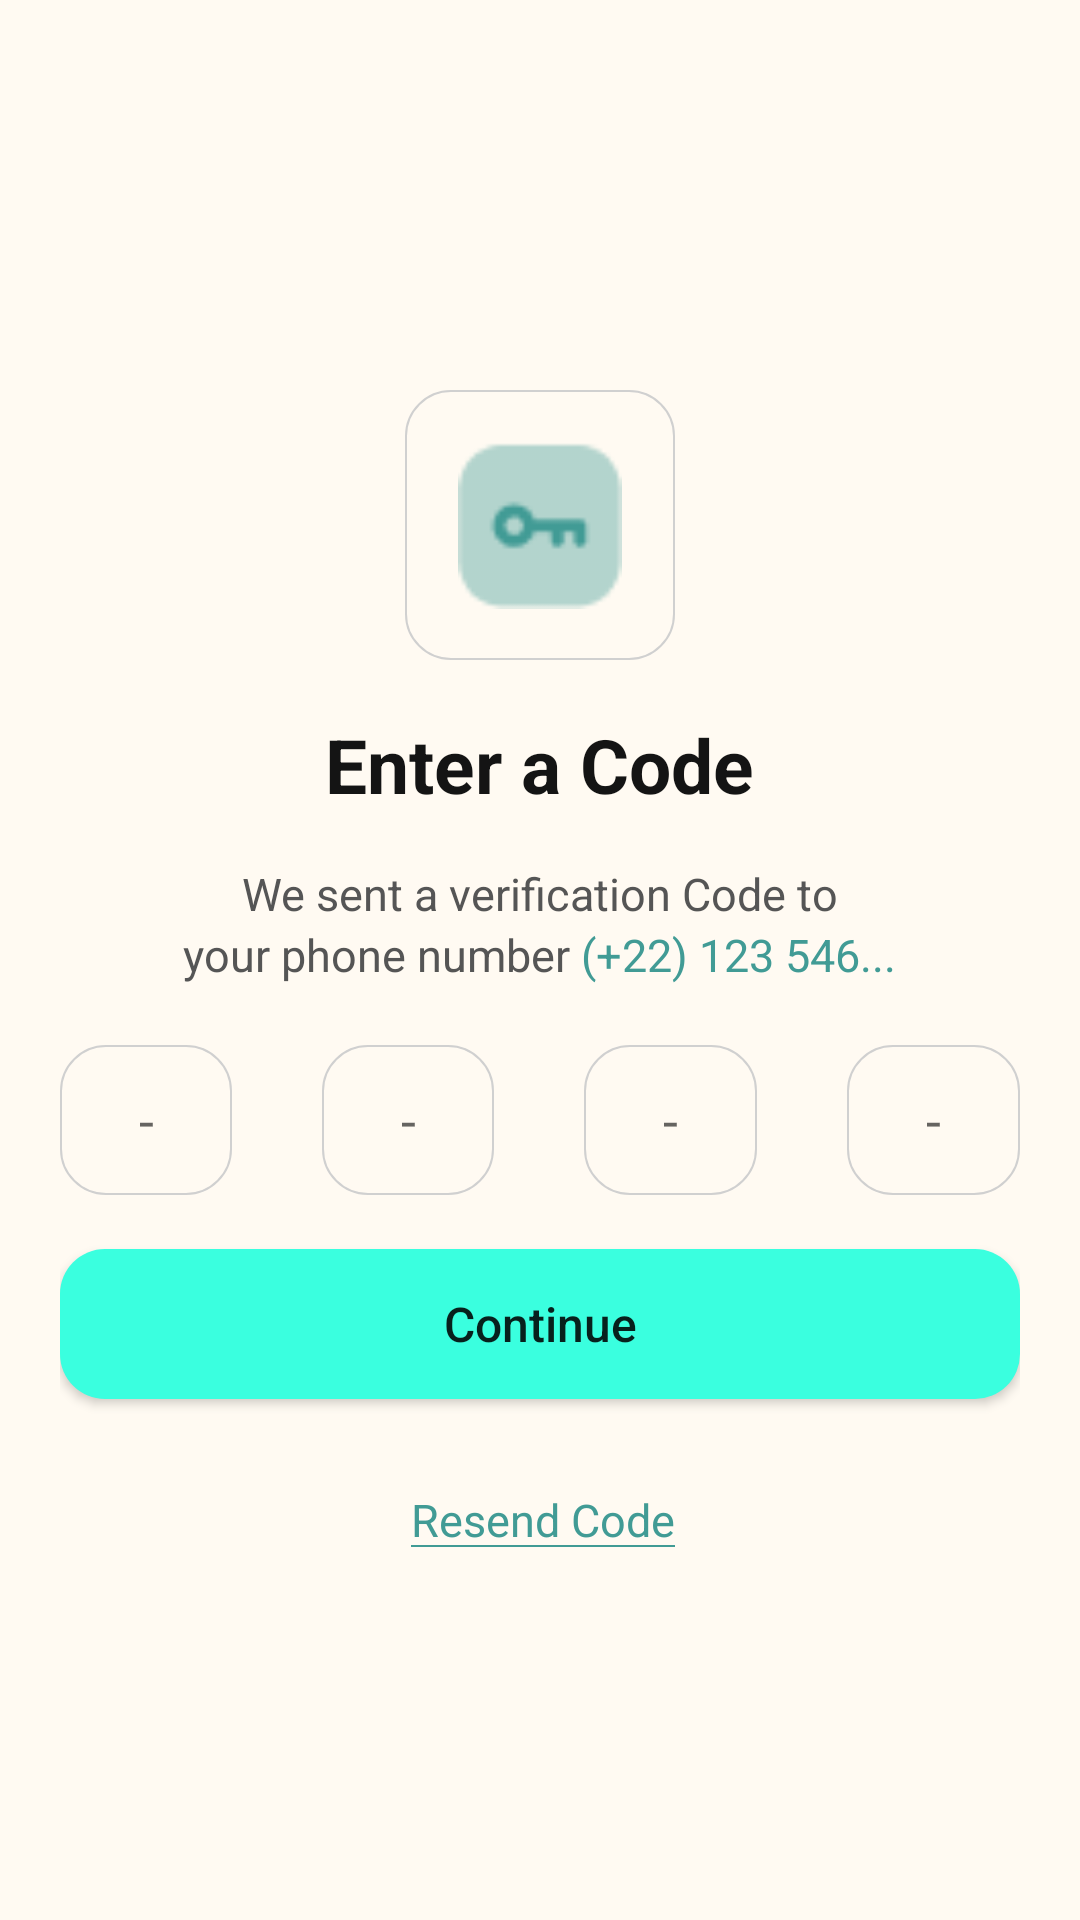

Point at icon controls on the screen. Image size 1080 x 1920, points as (x,y).
passicon: (540,525)
